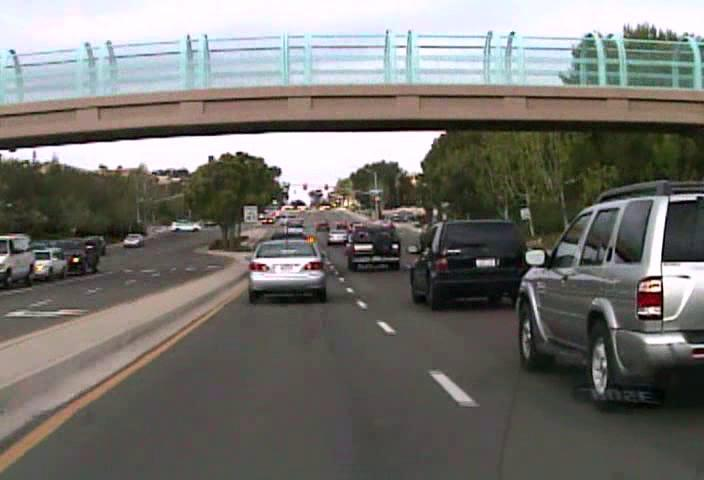speedLimitUrdbl: (243, 205, 257, 222)
